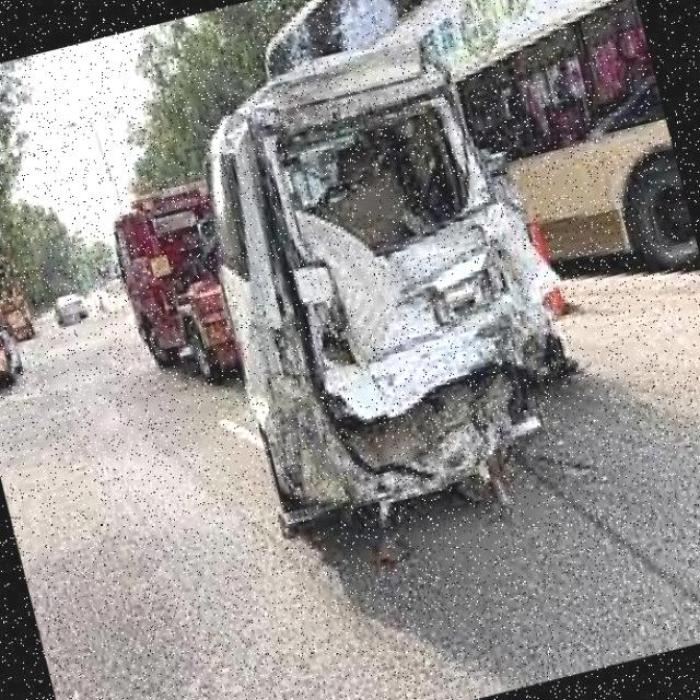Accident: (156, 25, 640, 562)
